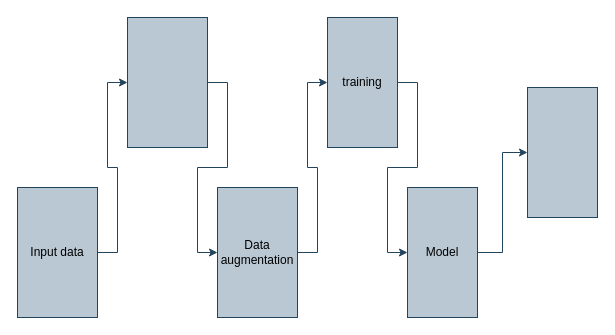
Image size: 615x335. Some labels were removed from this diagram. The shapes that lost their labels are listed below. From the top down, each one's centre as x and y in pixels, then its label:
At [167,82]: "Preprocessing".
At [562,152]: "Evaluation".
